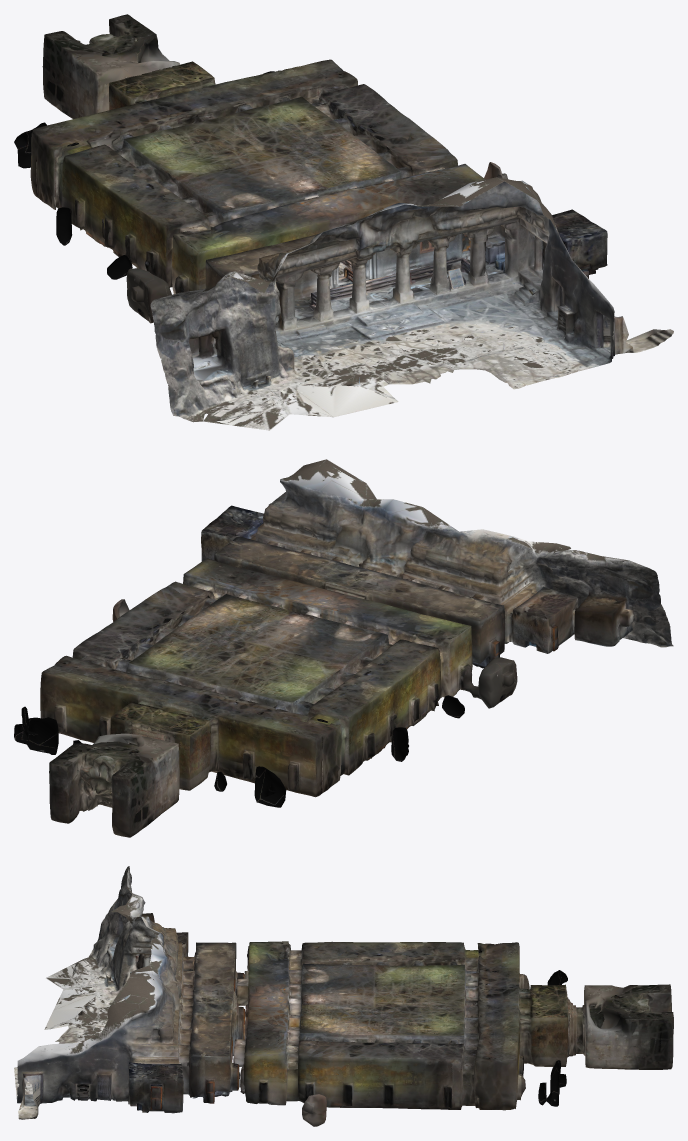
Rendered from ajanta-scan.glb.
3 views of the same model, one above another, from view 1: azimuth 30°, elevation 25°; view 2: azimuth 150°, elevation 25°; view 3: azimuth 270°, elevation 25° (orthographic). The views are drawn at different scales.
Visible parts, largest first — view 1: ajanta; view 2: ajanta; view 3: ajanta.
Part boxes in pixels (<box>): ajanta: <box>14,14,673,430</box>; ajanta: <box>14,459,673,837</box>; ajanta: <box>14,866,673,1126</box>.
Bounding box in the file's own units: 22.52 × 6.77 × 34.
Materials: 1 (1 with a texture image).
